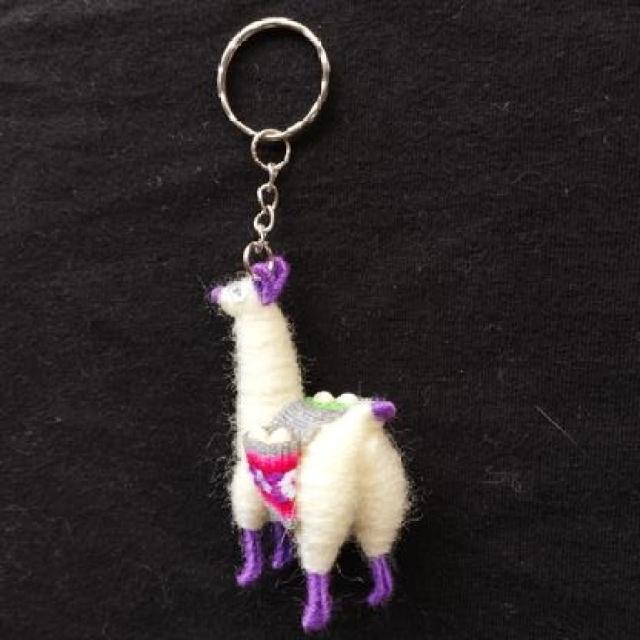Llavero: (206, 254, 412, 634)
